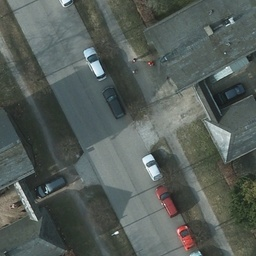car: (82, 44, 107, 81), (154, 183, 178, 217), (102, 86, 126, 117), (34, 175, 65, 197), (142, 153, 164, 183), (213, 85, 244, 101), (177, 225, 196, 250)
